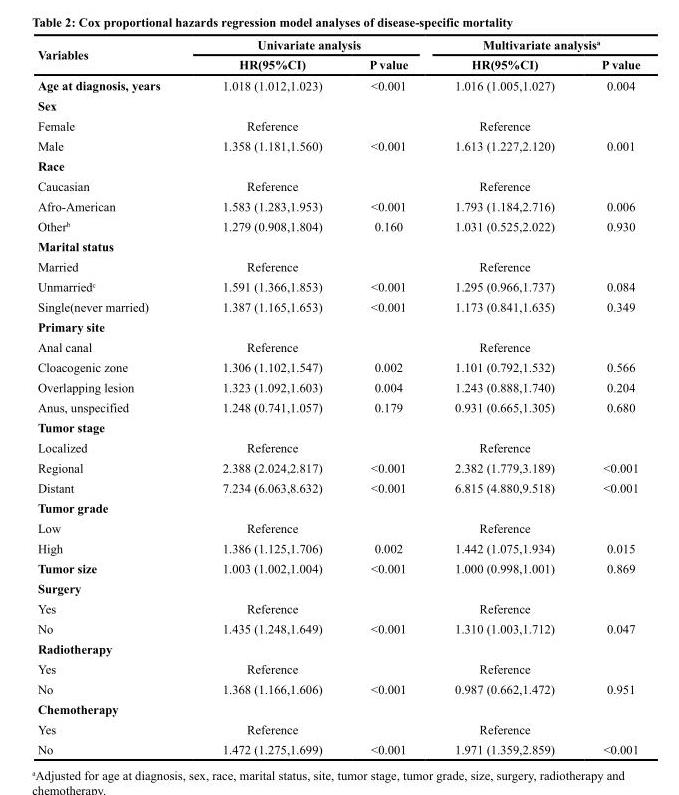table: (36, 37, 639, 756)
table column: (190, 37, 345, 756), (36, 37, 190, 756), (430, 37, 577, 756), (345, 37, 430, 756), (577, 37, 639, 756)
table column header: (36, 37, 639, 74)
table projected row header: (36, 235, 639, 256), (36, 95, 639, 115), (36, 155, 639, 175), (36, 316, 639, 336), (36, 417, 639, 437), (36, 497, 639, 517), (36, 578, 639, 598), (36, 638, 639, 658), (36, 698, 639, 718)
table row: (36, 74, 639, 95), (36, 235, 639, 256), (36, 396, 639, 417), (36, 557, 639, 578), (36, 54, 639, 74), (36, 95, 639, 115), (36, 115, 639, 135), (36, 135, 639, 155), (36, 155, 639, 175), (36, 175, 639, 195), (36, 195, 639, 215), (36, 215, 639, 235), (36, 256, 639, 276), (36, 276, 639, 296), (36, 296, 639, 316), (36, 316, 639, 336), (36, 336, 639, 356), (36, 356, 639, 376), (36, 376, 639, 396), (36, 417, 639, 437), (36, 437, 639, 457), (36, 457, 639, 477), (36, 477, 639, 497), (36, 497, 639, 517), (36, 517, 639, 537), (36, 537, 639, 557), (36, 578, 639, 598), (36, 598, 639, 618), (36, 618, 639, 638), (36, 638, 639, 658), (36, 658, 639, 678), (36, 678, 639, 698), (36, 698, 639, 718), (36, 718, 639, 738), (36, 738, 639, 756), (36, 37, 639, 54)
table spanning cell: (36, 37, 190, 74), (190, 37, 430, 54), (430, 37, 639, 54)
